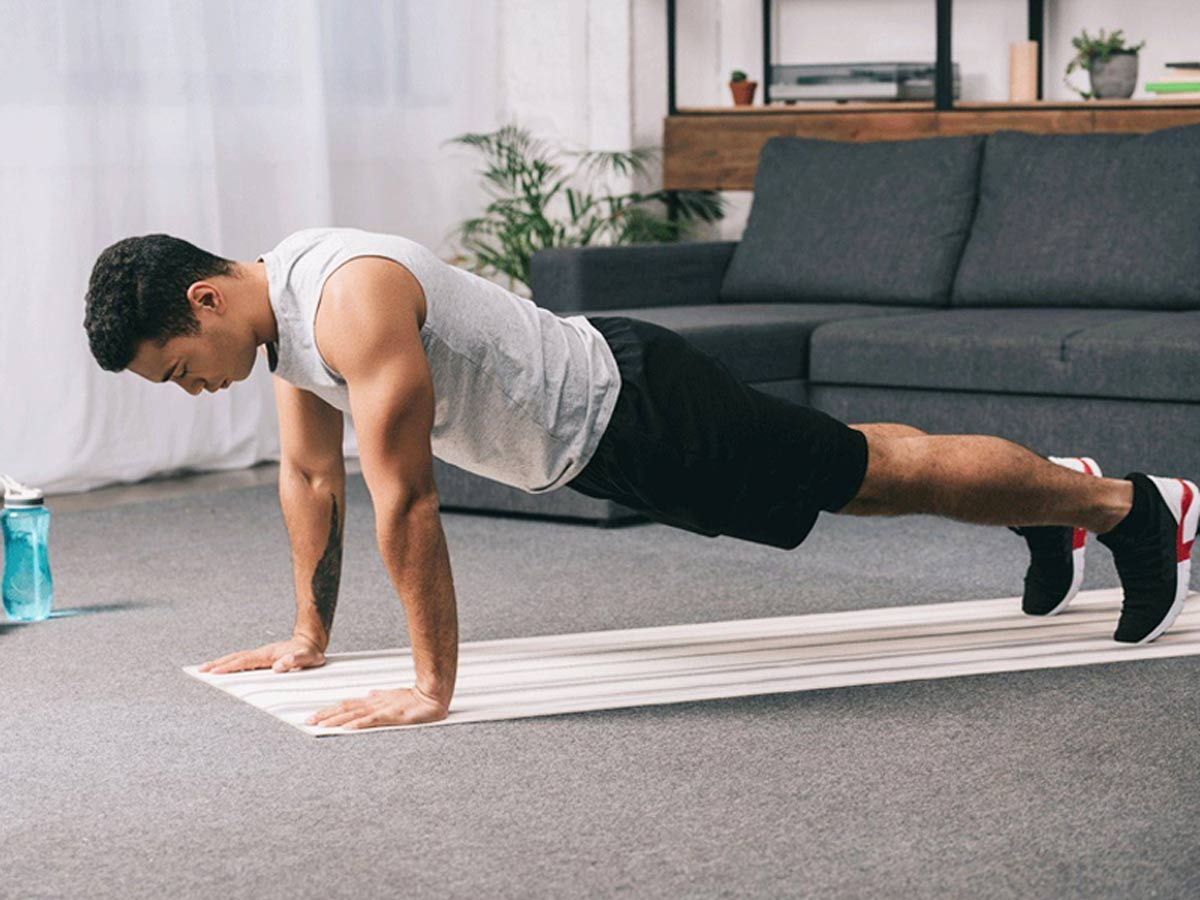up: (80, 228, 1193, 730)
